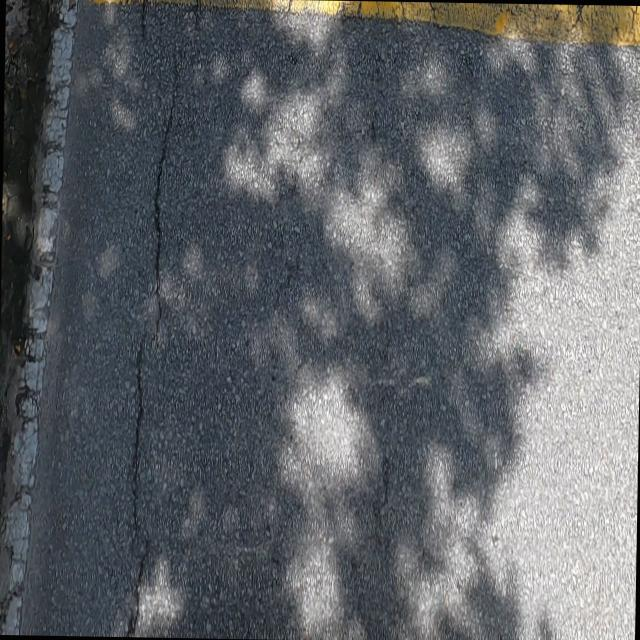Retak-Memanjang: (119, 329, 153, 637), (150, 45, 181, 335)
